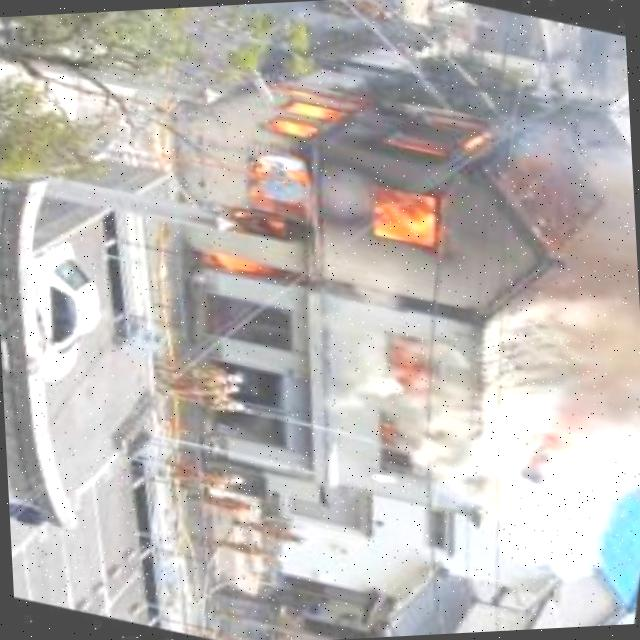fire: (176, 14, 526, 343)
